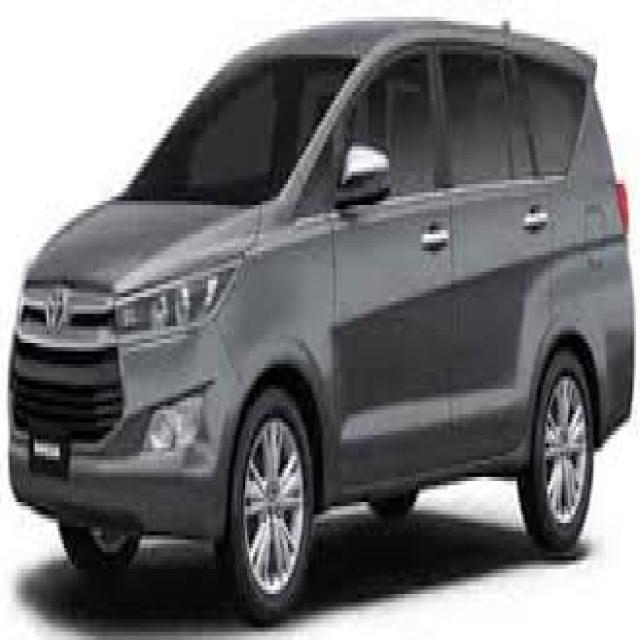light_vehicle: (8, 17, 636, 624)
